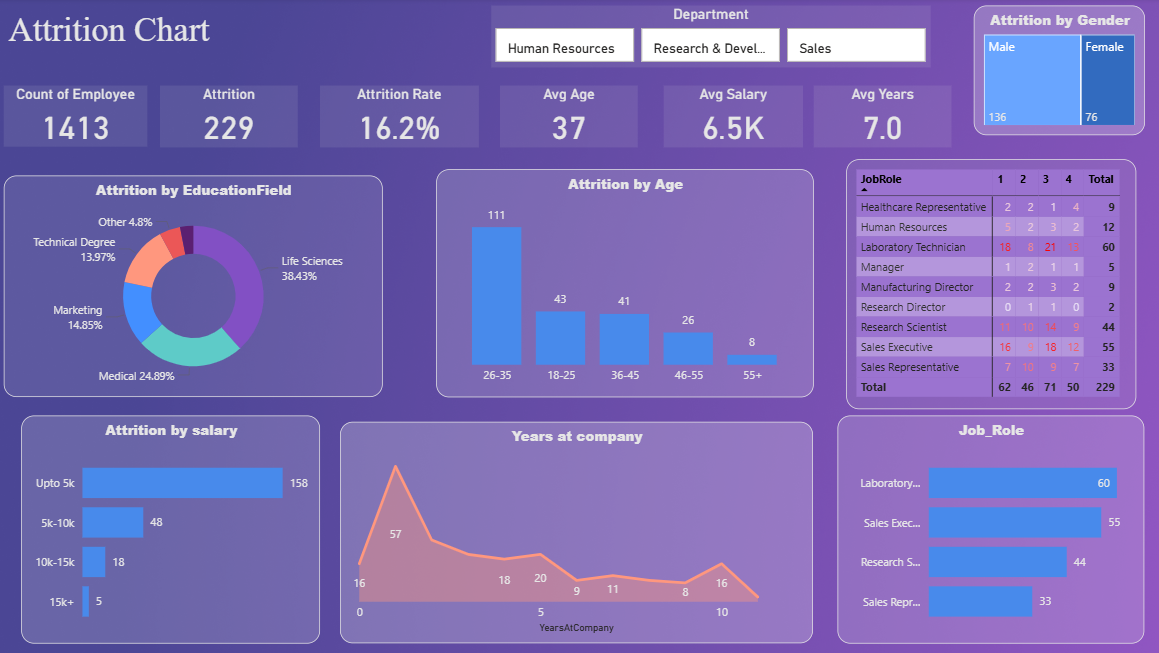

The page's visual inventory and layout, read from the dashboard file:
{"tool":"powerbi","page":{"name":"Page 1","canvas":[1280,720],"ordinal":0},"visuals":[{"type":"card","title":"Count of Employee","fields":{"Values":["Count(HR_Analytics.EmpID)"]},"box":[9.6,96.1,157.8,67.2],"z":0},{"type":"card","title":"Attrition","fields":{"Values":["Sum(HR_Analytics.Attrion_Count)"]},"box":[181.1,96.2,151.4,67.9],"z":1000},{"type":"card","title":"Attrition Rate","fields":{"Values":["HR_Analytics.Attrition_Rate"]},"box":[356.5,96.2,174,67.9],"z":2000},{"type":"card","title":"Avg Age","fields":{"Values":["Avg(HR_Analytics.Age)"]},"box":[554.6,96.2,151.4,67.9],"z":3000},{"type":"card","title":"Avg Salary","fields":{"Values":["Avg(HR_Analytics.MonthlyIncome)"]},"box":[734.2,96.2,152.8,67.9],"z":4000},{"type":"card","title":"Avg Years","fields":{"Values":["Avg(HR_Analytics.YearsAtCompany)"]},"box":[898.3,96.2,151.4,67.9],"z":5000},{"type":"donutChart","title":"Attrition by EducationField","fields":{"Y":["Sum(HR_Analytics.Attrion_Count)"],"Category":["HR_Analytics.EducationField"]},"box":[9.9,195.2,415.9,243.3],"z":6000},{"type":"clusteredColumnChart","title":"Attrition by Age","fields":{"Category":["HR_Analytics.AgeGroup"],"Y":["Sum(HR_Analytics.Attrion_Count)"]},"box":[483.8,188.2,414.5,250.4],"z":7000},{"type":"pivotTable","fields":{"Rows":["HR_Analytics.JobRole"],"Columns":["HR_Analytics.JobSatisfaction"],"Values":["Sum(HR_Analytics.Attrion_Count)"]},"box":[935.1,176.8,318.3,274.4],"z":8000},{"type":"barChart","title":"Attrition by salary","fields":{"Y":["Sum(HR_Analytics.Attrion_Count)"],"Category":["HR_Analytics.SalarySlab"]},"box":[28.3,458.4,328.2,250.4],"z":9000},{"type":"barChart","title":"Job_Role","fields":{"Y":["Sum(HR_Analytics.Attrion_Count)"],"Category":["HR_Analytics.JobRole"]},"box":[925.2,458.4,336.7,250.4],"z":10000},{"type":"stackedAreaChart","title":"Years at company","fields":{"Y":["Sum(HR_Analytics.Attrion_Count)"],"Category":["HR_Analytics.YearsAtCompany"]},"box":[379.1,465.4,519.2,243.3],"z":11000},{"type":"treemap","title":"Attrition by Gender","fields":{"Values":["Sum(HR_Analytics.Attrion_Count)"],"Group":["HR_Analytics.Gender"]},"box":[1074.4,8.2,188,142.7],"z":12000},{"type":"advancedSlicerVisual","fields":{"Values":["HR_Analytics.Department"]},"box":[544.7,8.5,482.4,67.9],"z":13000},{"type":"textbox","box":[9.9,8.5,292.8,67.9],"z":14000}]}

Visuals, with their boxes in screenshot pixels (x1, y1, x2, y2), scaled from the page's 1280x720 canvas onto the 1159x653 screenshot:
"Count of Employee" card: [x1=9, y1=87, x2=152, y2=148]
"Attrition" card: [x1=164, y1=87, x2=301, y2=149]
"Attrition Rate" card: [x1=323, y1=87, x2=480, y2=149]
"Avg Age" card: [x1=502, y1=87, x2=639, y2=149]
"Avg Salary" card: [x1=665, y1=87, x2=803, y2=149]
"Avg Years" card: [x1=813, y1=87, x2=950, y2=149]
"Attrition by EducationField" donutChart: [x1=9, y1=177, x2=386, y2=398]
"Attrition by Age" clusteredColumnChart: [x1=438, y1=171, x2=813, y2=398]
pivotTable - HR_Analytics.JobRole x HR_Analytics.JobSatisfaction: [x1=847, y1=160, x2=1135, y2=409]
"Attrition by salary" barChart: [x1=26, y1=416, x2=323, y2=643]
"Job_Role" barChart: [x1=838, y1=416, x2=1143, y2=643]
"Years at company" stackedAreaChart: [x1=343, y1=422, x2=813, y2=643]
"Attrition by Gender" treemap: [x1=973, y1=7, x2=1143, y2=137]
advancedSlicerVisual - HR_Analytics.Department: [x1=493, y1=8, x2=930, y2=69]
textbox: [x1=9, y1=8, x2=274, y2=69]
